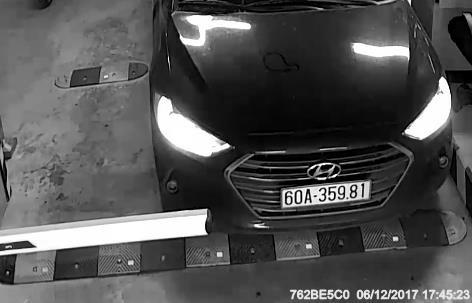License-plate: (275, 178, 375, 214)
